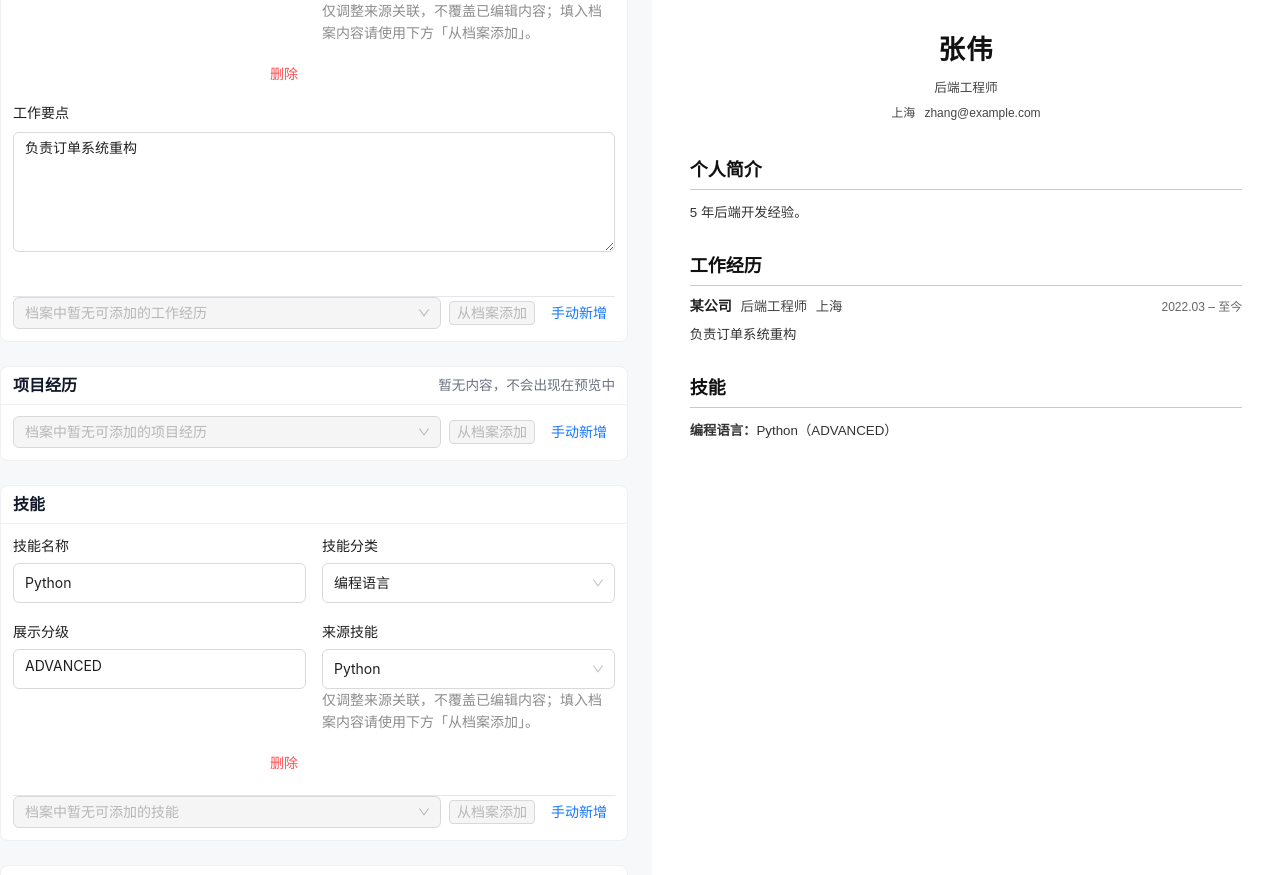
ResumeEditorView › 头部短字段和经历条目按双列分组，邮箱与电话各有独立标签
The image size is (1280, 875).
(page scrolled)
Click the button with test id "add-project" at (579, 432), box [543,420,615,444]
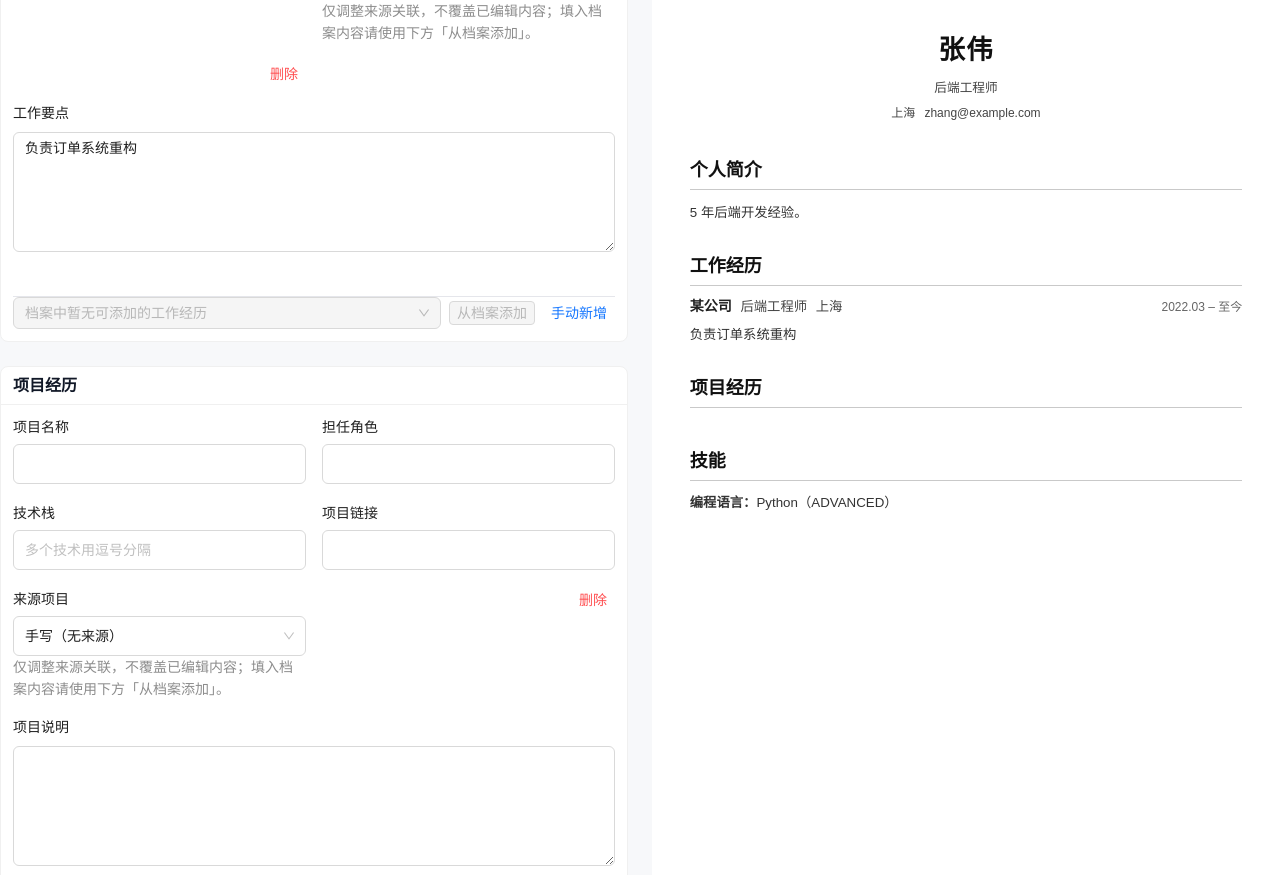
Expected: the element with class "entry-fields" that starts with "项目名称" is shown, [13,416,615,700]
